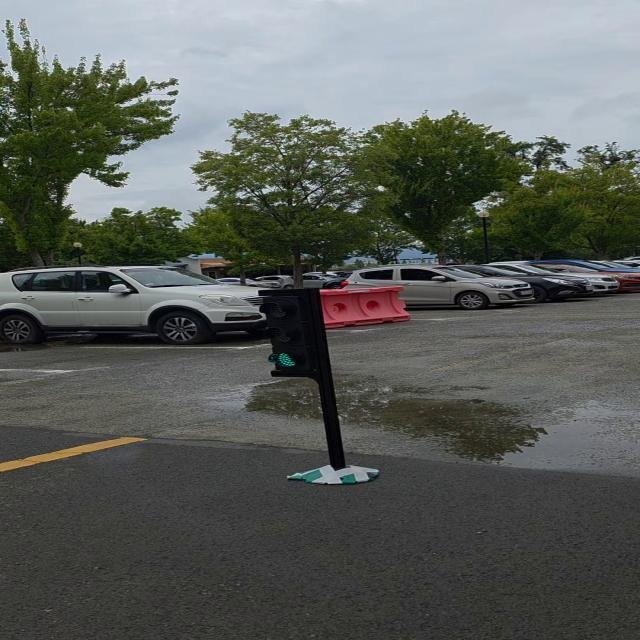green: (261, 291, 323, 377)
